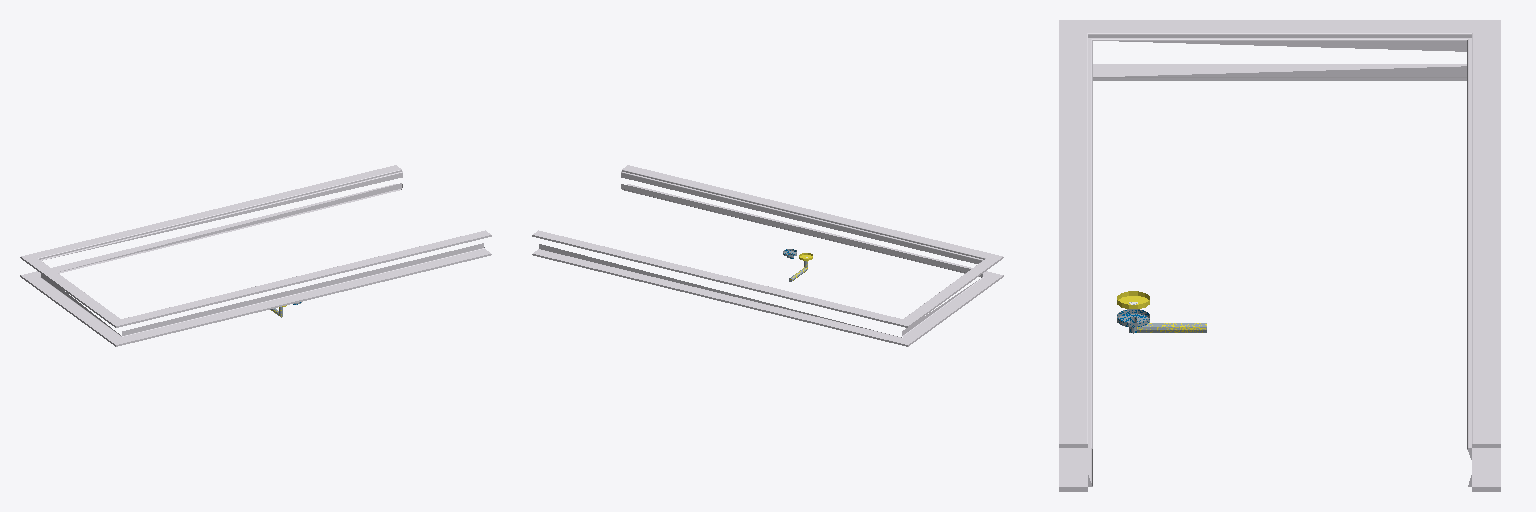
The robot description file, URDF, robot "right-pull-door":
<robot name="right-pull-door">
	<link name="base" />
	<link name="link_0">
		<visual name="out-frame">
			<origin xyz="0 0 0" />
			<geometry>
				<mesh filename="texture_dae/frame.dae" scale="1.0123574586047206 1.0123574586047206 1.0123574586047206" />
			</geometry>
		</visual>
		<collision>
			<origin xyz="0 0 0" />
			<geometry>
				<mesh filename="texture_dae/frame.dae" scale="1.0123574586047206 1.0123574586047206 1.0123574586047206" />
			</geometry>
		</collision>
	</link>
	<joint name="joint_0" type="fixed">
		<origin rpy="1.570796326794897 0 -1.570796326794897" xyz="0 0 0" />
		<child link="link_0" />
		<parent link="base" />
	</joint>
	<link name="link_1">
		<visual name="surf-board">
			<origin xyz="0.3356916493349545 -0.8290365956526156 0" />
			<geometry>
				<mesh filename="texture_dae/board.dae" scale="1.0123574586047206 1.0123574586047206 1.0123574586047206" />
			</geometry>
		</visual>
		<collision>
			<origin xyz="0.3356916493349545 -0.8290365956526156 0" />
			<geometry>
				<mesh filename="texture_dae/board.dae" scale="1.0123574586047206 1.0123574586047206 1.0123574586047206" />
			</geometry>
		</collision>
	</link>
	<joint name="joint_1" type="revolute">
		<origin xyz="-0.3356916493349545 0.8290365956526156 0" />
		<axis xyz="0 -1 0" />
		<child link="link_1" />
		<parent link="link_0" />
		<limit lower="0" upper="1.5079644737231006" />
	</joint>
	<link name="link_2">
		<visual name="handle">
			<origin xyz="0 0 0" />
			<geometry>
				<mesh filename="texture_dae/9960035-handle-right.dae" scale="1.1521591651295857 1.1521591651295857 1.1521591651295857" />
			</geometry>
		</visual>
		<collision>
			<origin xyz="0 0 0" />
			<geometry>
				<mesh filename="texture_dae/9960035-handle-right.dae" scale="1.1521591651295857 1.1521591651295857 1.1521591651295857" />
			</geometry>
		</collision>
	</link>
	<joint name="joint_2" type="revolute">
		<origin xyz="0 0 0" />
		<child link="link_2" />
		<parent link="link_3" />
		<axis xyz="0 0 1" />
		<limit lower="0" upper="0" />
	</joint>
	<link name="link_3">
		<visual name="lock">
			<origin xyz="0 0 0" />
			<geometry>
				<mesh filename="texture_dae/9960035-lock-right.dae" scale="1.1521591651295857 1.1521591651295857 1.1521591651295857" />
			</geometry>
		</visual>
		<collision>
			<origin xyz="0 0 0" />
			<geometry>
				<mesh filename="texture_dae/9960035-lock-right.dae" scale="1.1521591651295857 1.1521591651295857 1.1521591651295857" />
			</geometry>
		</collision>
	</link>
	<joint name="joint_3" type="fixed">
		<origin xyz="0.6017174544127666 -0.9253223116092133 0.02381586040493419" />
		<child link="link_3" />
		<parent link="link_1" />
	</joint>
</robot>

--- What the picture shows (computed from the rendered views, not written in the file) ---
Views: 3 orthographic renders of the robot side by side, from view 1: azimuth 30°, elevation 25°; view 2: azimuth 150°, elevation 25°; view 3: azimuth 270°, elevation 25°.
Model right-pull-door with 5 links and 4 joints (2 revolute, 2 fixed), rooted at base, posed every joint at zero.
Links seen in each view (by area): view 1: link_0; view 2: link_0; view 3: link_0, link_2, link_3.
Link boxes in pixels (left/top/right/bottom): link_0: left=20, top=165, right=491, bottom=346; link_0: left=532, top=165, right=1003, bottom=346; link_0: left=1059, top=20, right=1500, bottom=491; link_2: left=1117, top=291, right=1206, bottom=332; link_3: left=1117, top=309, right=1149, bottom=333.
Bounding box of the posed robot: 1.78 × 0.7829 × 0.2101 m (x, y, z).
3 mesh visuals loaded from 4 distinct referenced files (3 Collada DAE); not drawn: 1 (reference not matched to a file when rendering).
